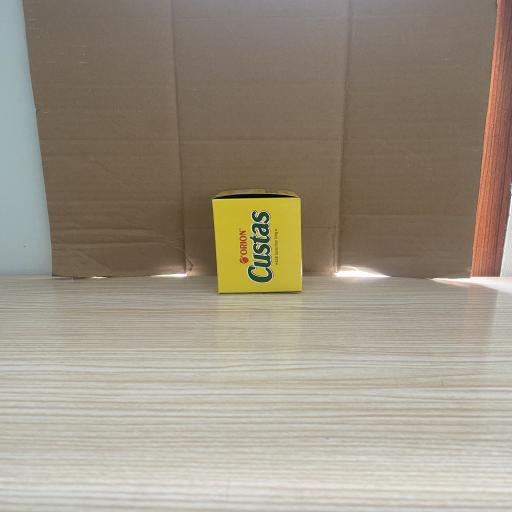custas: (211, 188, 303, 294)
